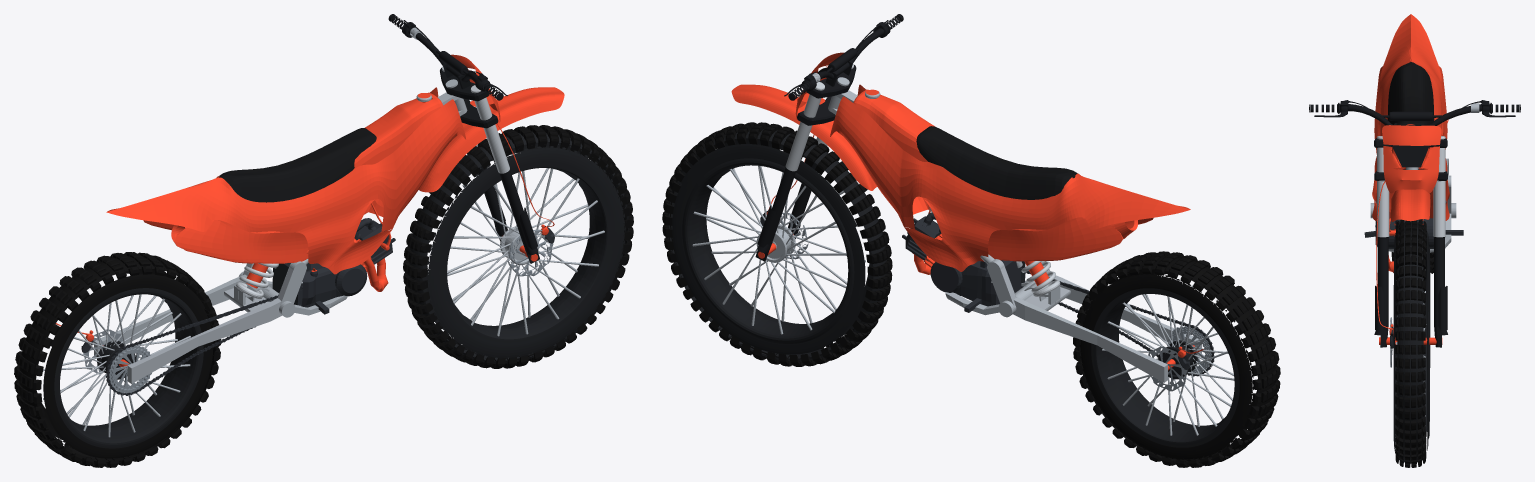
The picture shows the model from 3 angles, left to right: view 1: azimuth 30°, elevation 25°; view 2: azimuth 150°, elevation 25°; view 3: azimuth 270°, elevation 25°; orthographic projection. The views are drawn at different scales.
Visible parts, largest first — view 1: object 55, Torus.002, Plane.001, Plane, Torus, Torus.003, Torus.001, object 13, object 56, object 14, Torus.004, object 28 (+14 smaller); view 2: object 55, Plane.001, Torus.002, Torus, Plane, Torus.003, Torus.001, object 13, object 56, object 14, Torus.004, object 25 (+15 smaller); view 3: Plane.001, object 55, Torus.002, object 52, object 13, object 45, object 32, Torus.004, object 33, Torus.003, object 34, object 53 (+8 smaller).
Boxes of the visible parts, x1,y1,x2,y2 form: object 55: (106, 87, 465, 274); Torus.002: (408, 132, 628, 363); Plane.001: (403, 125, 633, 368); Plane: (14, 252, 220, 467); Torus: (19, 256, 216, 463); Torus.003: (441, 161, 613, 345); Torus.001: (54, 288, 203, 448); object 13: (219, 128, 376, 202); object 56: (143, 220, 308, 263); object 14: (94, 274, 282, 383); Torus.004: (419, 87, 564, 192); object 28: (447, 168, 604, 336); object 55: (830, 84, 1190, 271); Plane.001: (662, 122, 892, 366); Torus.002: (667, 129, 886, 361); Torus: (1078, 255, 1275, 463); Plane: (1073, 251, 1280, 467); Torus.003: (682, 158, 854, 343); Torus.001: (1091, 288, 1239, 447); object 13: (916, 126, 1077, 199); object 56: (988, 217, 1153, 261); object 14: (1013, 275, 1201, 382); Torus.004: (731, 84, 876, 190); object 25: (692, 166, 846, 334); Plane.001: (1395, 219, 1426, 467); object 55: (1372, 14, 1449, 221); Torus.002: (1393, 221, 1428, 463); object 52: (1382, 125, 1441, 193); object 13: (1387, 62, 1434, 125); object 45: (1377, 136, 1445, 237); object 32: (1374, 237, 1447, 347); Torus.004: (1391, 189, 1430, 221); object 33: (1375, 286, 1447, 330); Torus.003: (1394, 246, 1430, 438); object 34: (1348, 104, 1481, 125); object 53: (1391, 145, 1429, 167).
Bounding box in the file's own units: 1.62 × 0.8457 × 0.5012.
